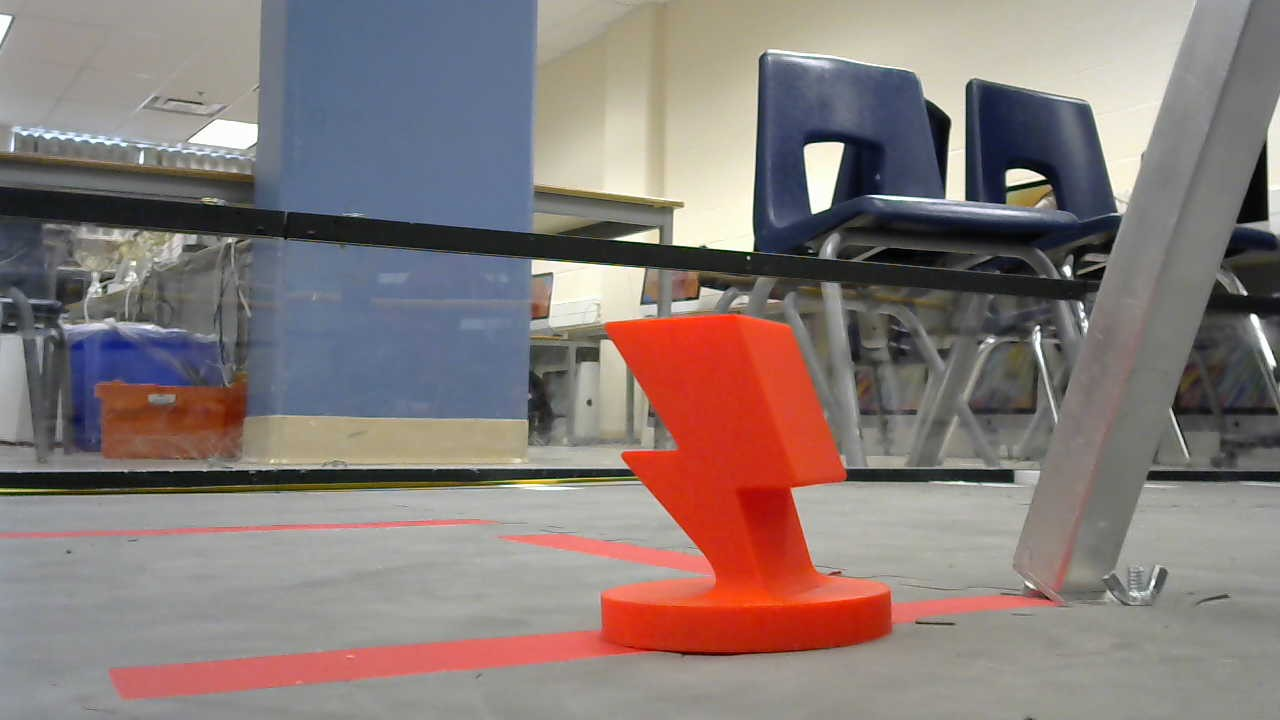redobject: (588, 310, 895, 658)
